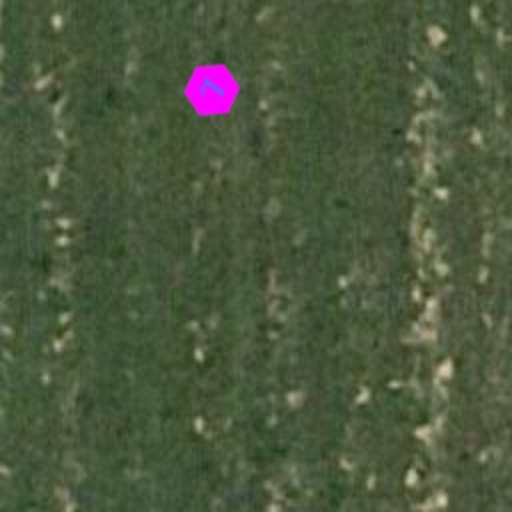hexagon: (174, 52, 250, 128)
